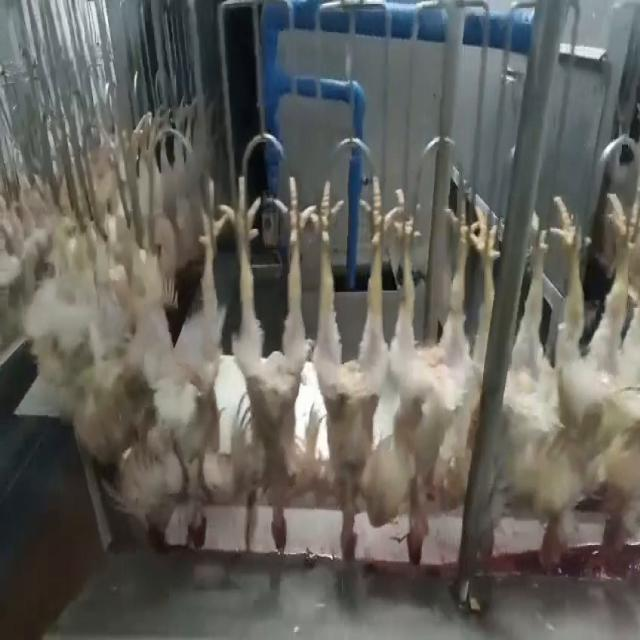chicken: (379, 182, 477, 580), (304, 166, 389, 568), (220, 170, 306, 564), (138, 174, 221, 560), (522, 197, 593, 563), (585, 185, 639, 566)
